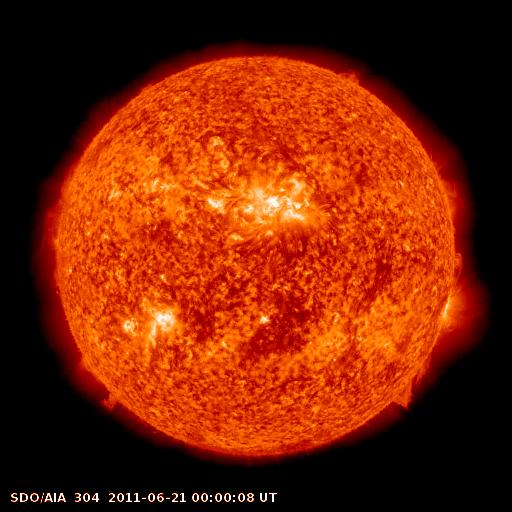prominence: (39, 158, 84, 298), (389, 347, 441, 419), (94, 387, 128, 420), (334, 58, 366, 93), (449, 247, 467, 287)
